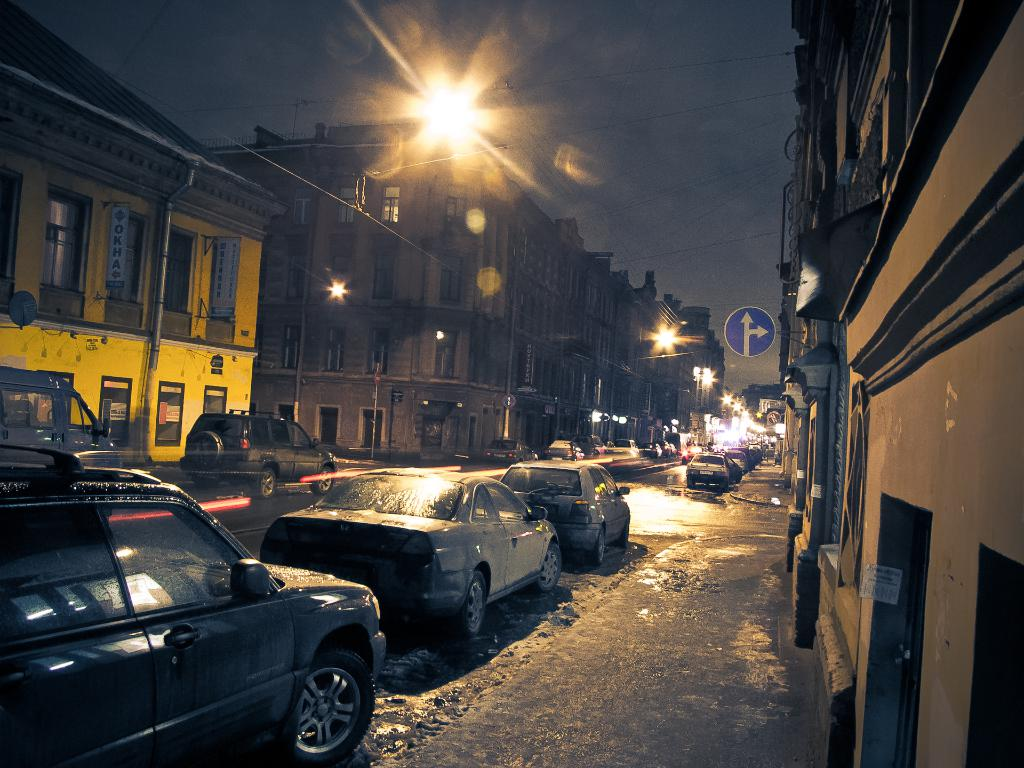car: (1, 446, 393, 768), (254, 448, 566, 664), (189, 384, 360, 506), (496, 435, 647, 563), (674, 444, 745, 497)
truck: (1, 342, 152, 471)
